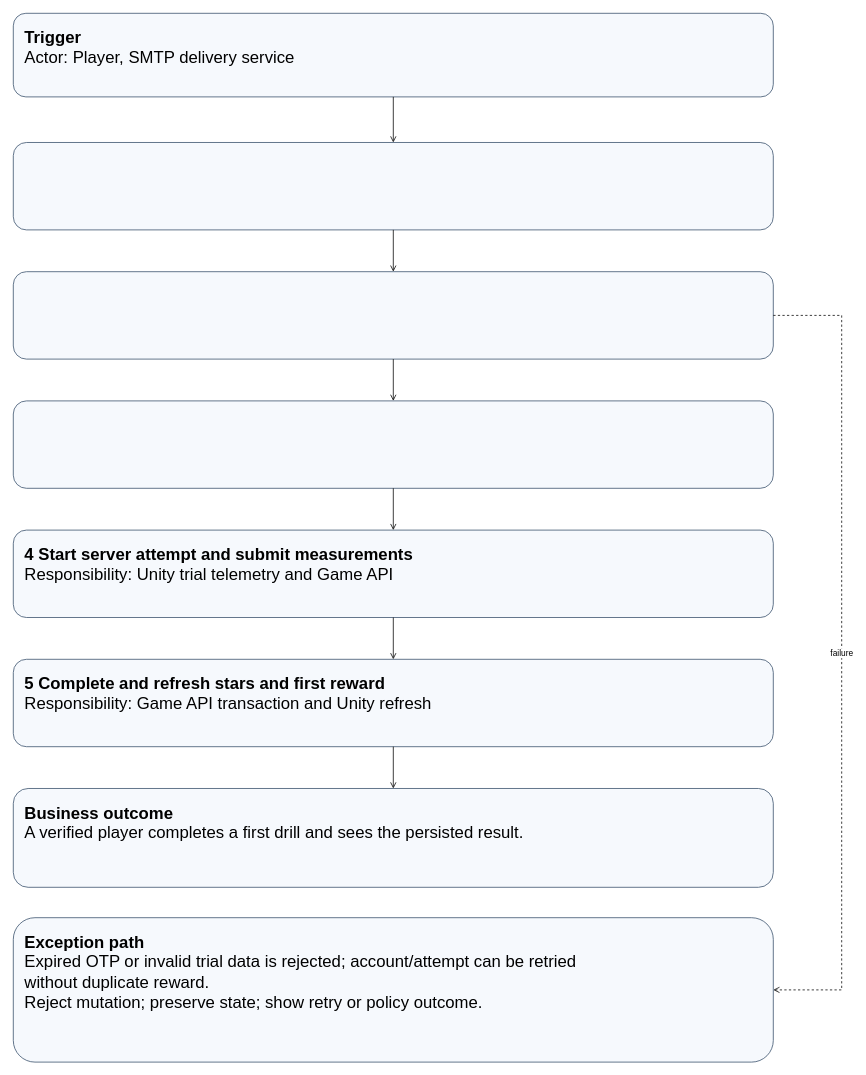
This 866x1075 diagram has some shape labels left out. The shapes that lost their labels are listed below. From the top down, each one's box as (x1, y1, x2, y2) in pixels, then its label:
(13, 142, 773, 230): 1 Submit and verify account Responsibility: Player, account API and SMTP
(13, 271, 773, 359): 2 Open tutorial and perform controls Responsibility: Player and Unity tutorial
(13, 400, 773, 488): 3 Choose an unlocked drill Responsibility: Player and catalog API
